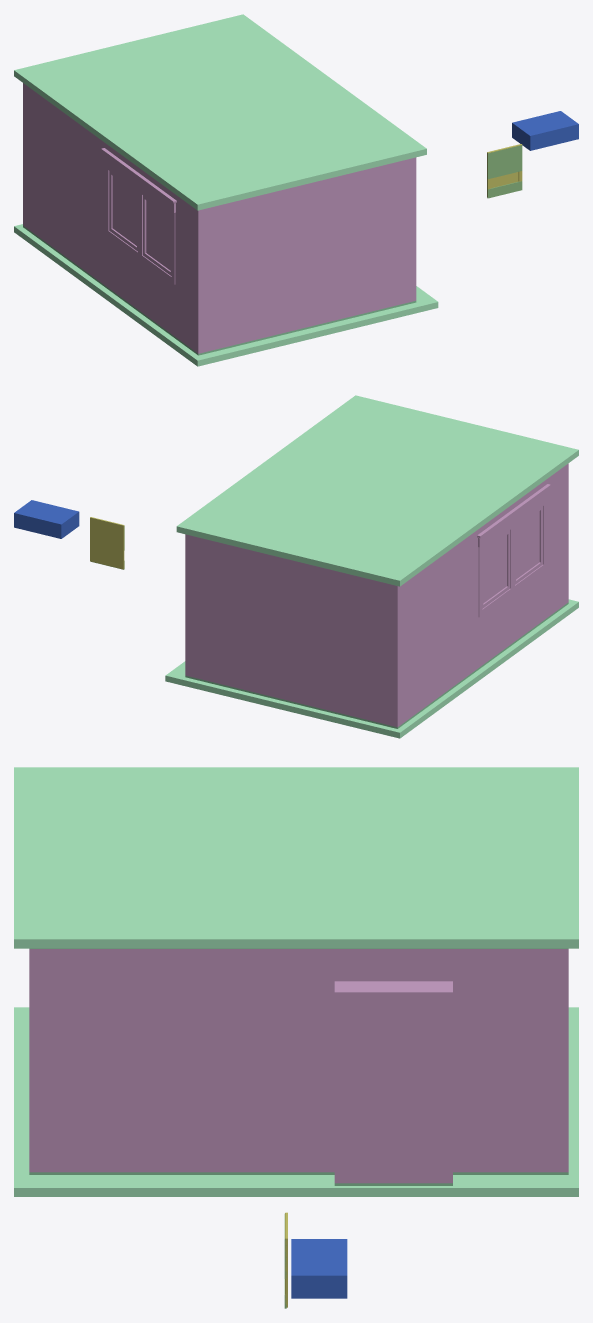
Rendered from FloorPlan20_physics.fbx.
The picture shows the model from 3 angles, top to bottom: view 1: azimuth 30°, elevation 25°; view 2: azimuth 150°, elevation 25°; view 3: azimuth 270°, elevation 25°; orthographic projection. The views are drawn at different scales.
Visible parts, largest first — view 1: StandardWallSize, Ceiling, Floor, Window, WindowPane, StandardSinkSize1, DrawerBase2; view 2: StandardWallSize, Ceiling, Floor, Window, WindowPane, StandardSinkSize1, CabinetDoorBase3; view 3: StandardWallSize, Ceiling, Floor, StandardSinkSize1.
Boxes of the visible parts, <box> form: StandardWallSize: <box>23,83,416,355</box>; Ceiling: <box>14,14,426,210</box>; Floor: <box>14,224,438,366</box>; Window: <box>101,148,176,284</box>; WindowPane: <box>112,176,170,270</box>; StandardSinkSize1: <box>512,111,578,150</box>; DrawerBase2: <box>487,152,522,179</box>; StandardWallSize: <box>185,463,568,728</box>; Ceiling: <box>176,395,578,586</box>; Floor: <box>165,599,578,738</box>; Window: <box>477,484,550,617</box>; WindowPane: <box>483,511,539,603</box>; StandardSinkSize1: <box>14,500,79,538</box>; CabinetDoorBase3: <box>90,517,124,568</box>; StandardWallSize: <box>29,948,568,1185</box>; Ceiling: <box>14,767,578,948</box>; Floor: <box>14,1007,578,1196</box>; StandardSinkSize1: <box>291,1239,347,1298</box>.
Bounding box in the file's own units: 823 × 270 × 555.
